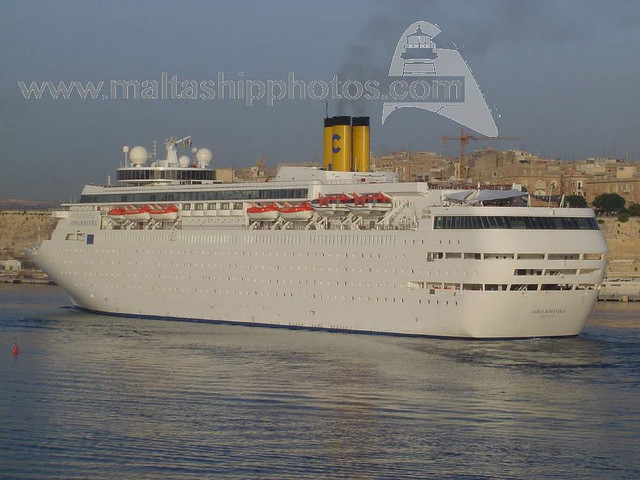cruise_ship: (14, 118, 605, 338)
